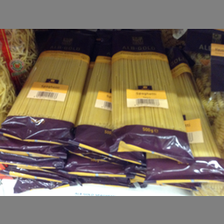pasta: (111, 30, 194, 164), (1, 30, 91, 144), (79, 39, 115, 146)
